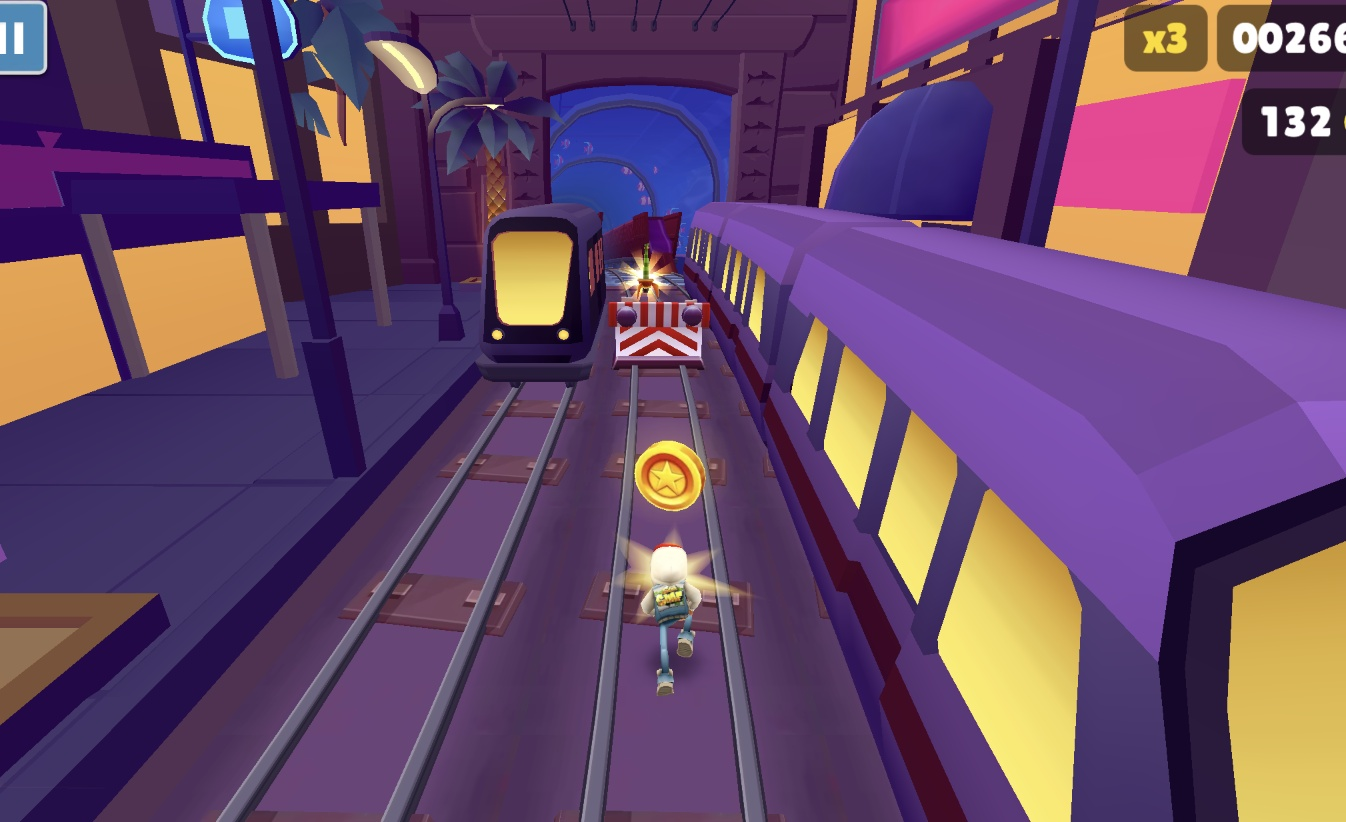ground_barrier: (609, 300, 713, 372)
train: (679, 201, 1346, 822), (476, 203, 607, 386), (602, 210, 683, 277)
